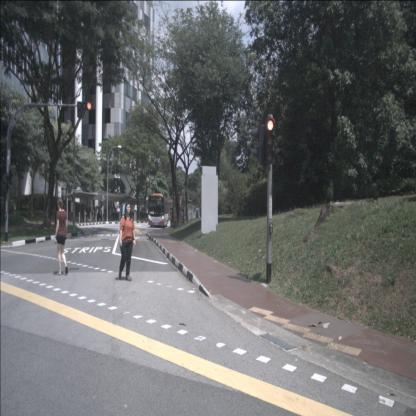human-pedestrian-adult: (119, 202, 137, 281), (54, 198, 68, 275), (82, 206, 86, 222), (91, 206, 95, 222), (109, 204, 112, 221), (117, 205, 120, 221), (98, 206, 101, 222), (104, 206, 107, 221), (94, 207, 97, 222), (171, 211, 174, 226), (96, 206, 99, 221), (112, 207, 115, 221), (170, 211, 172, 227), (115, 206, 117, 221), (100, 209, 102, 220)
vehicle-bus-rigid: (148, 194, 168, 227)
